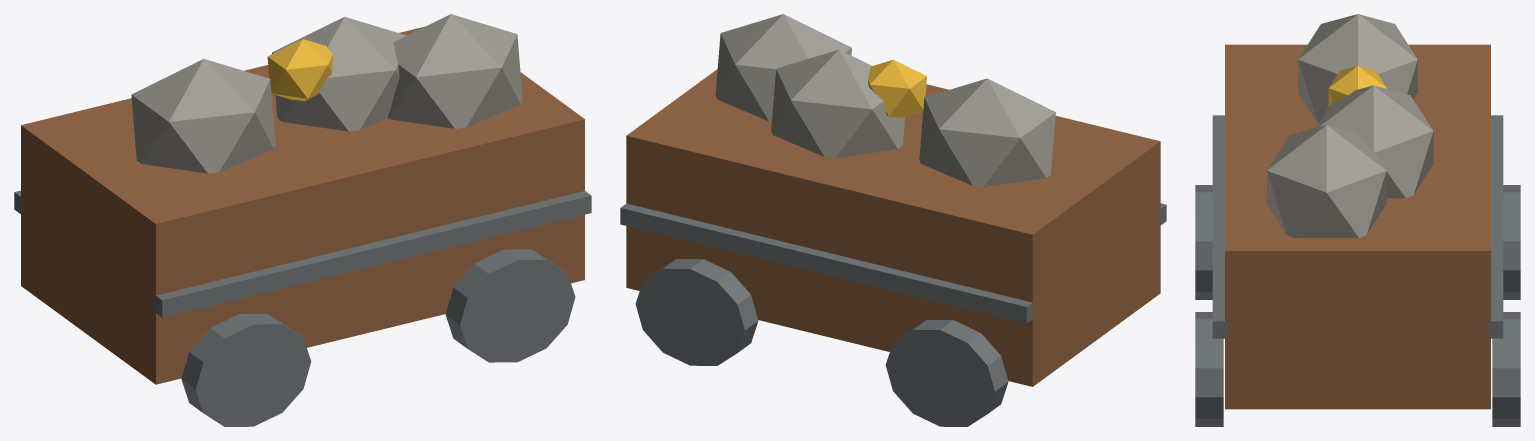
Rendered from board_carrinho.glb.
3 renders of one model, left to right at view 1: azimuth 30°, elevation 25°; view 2: azimuth 150°, elevation 25°; view 3: azimuth 270°, elevation 25°, orthographic. The views are drawn at different scales.
Visible parts, largest first — view 1: board_carrinho; view 2: board_carrinho; view 3: board_carrinho.
Boxes of the visible parts, <box> form: board_carrinho: <box>14,14,591,426</box>; board_carrinho: <box>620,14,1166,426</box>; board_carrinho: <box>1195,14,1520,426</box>.
Size of the model in its own units: 3 by 2 by 2.
